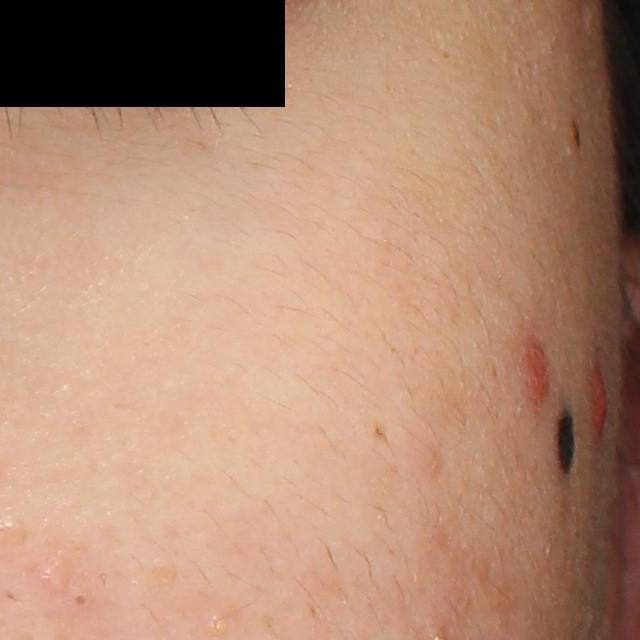comedo: (70, 589, 94, 610)
nevus: (552, 401, 581, 482), (567, 118, 585, 150)
papule: (519, 337, 553, 410)
